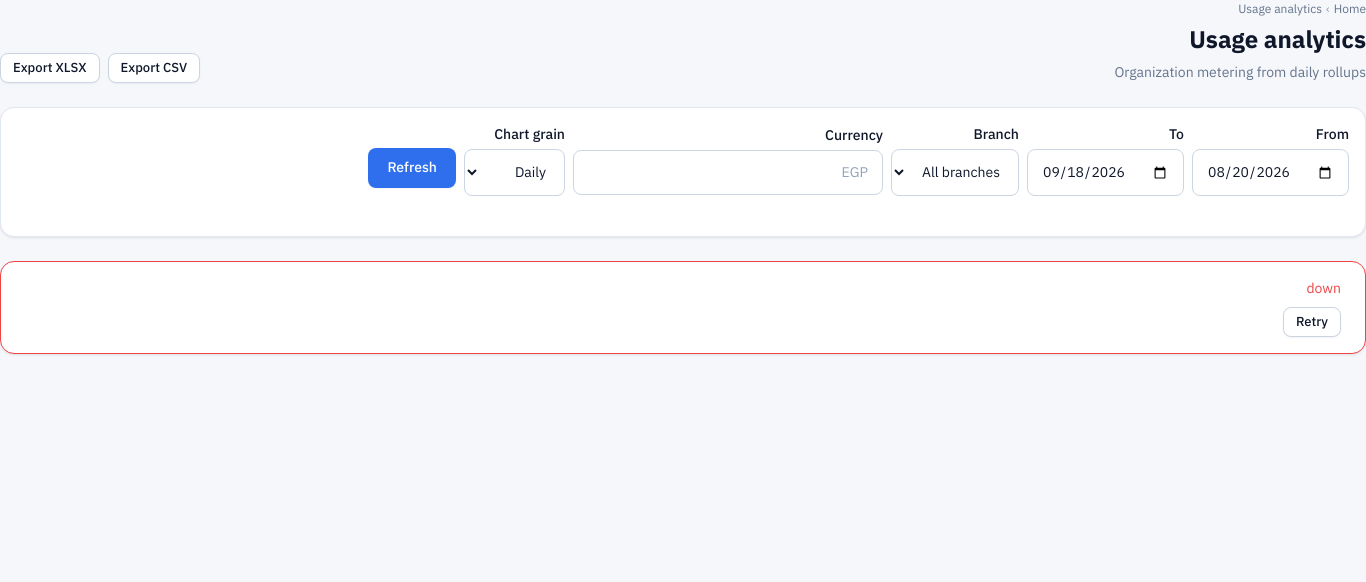
Test: analytics page › retries a failed analytics load
The width and height of the screenshot is (1366, 582).
Expected: the message shows "down", [1306,278,1341,299]
Click the button "Retry" at (1312, 322), box [1283,307,1341,337]
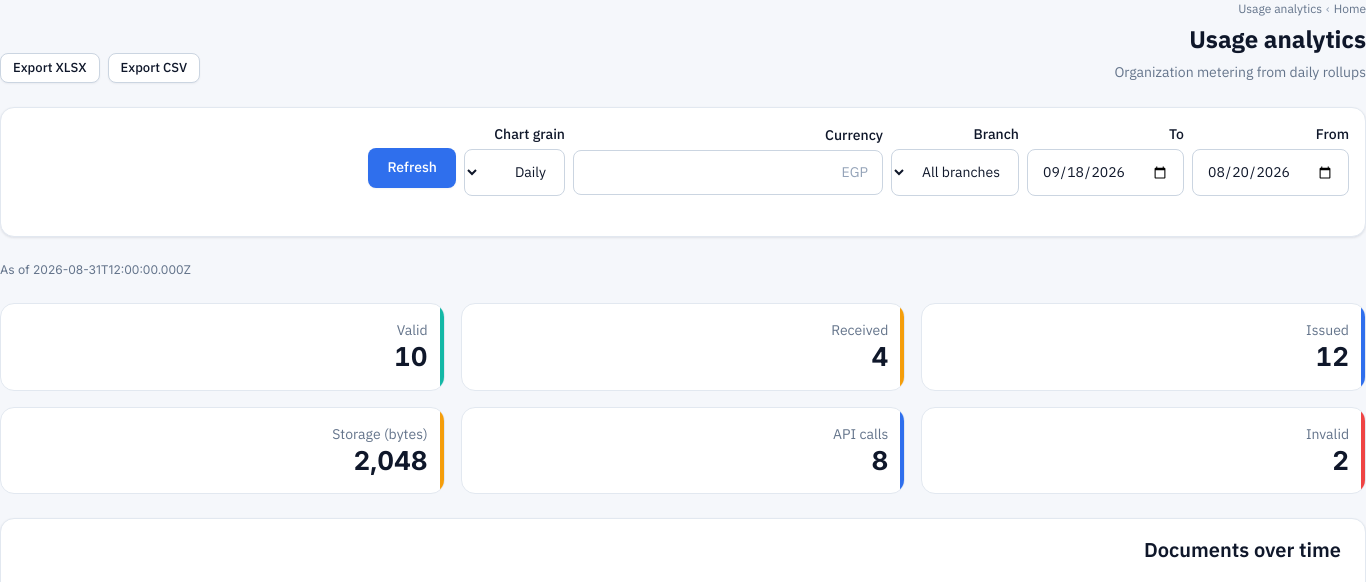
Expected: the text "Issued" is shown, [1306,320,1349,341]
